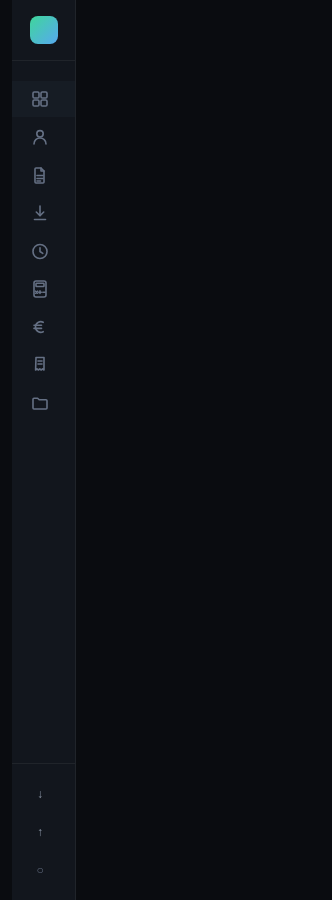
Scenario: Sidebar — épinglage persisté › épingler garde la sidebar ouverte même sans survol, et persiste dans localStorage
This screenshot has width=332, height=900.
Click the button named "épingler".
click(44, 870)  # box x1=12 y1=852 x2=75 y2=888
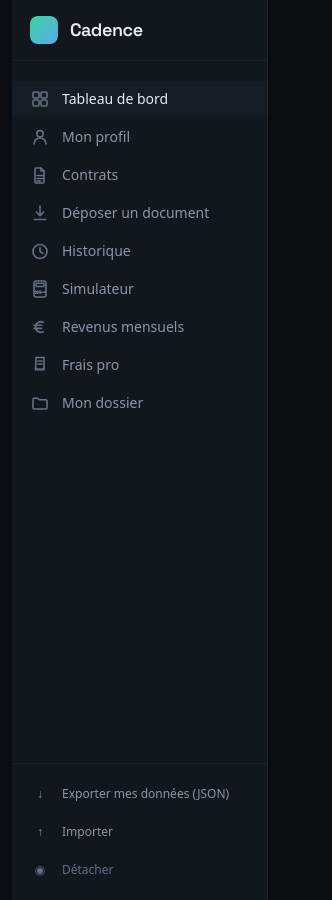
Check: the text "Contrats" is shown, box x1=62 y1=165 x2=118 y2=185
